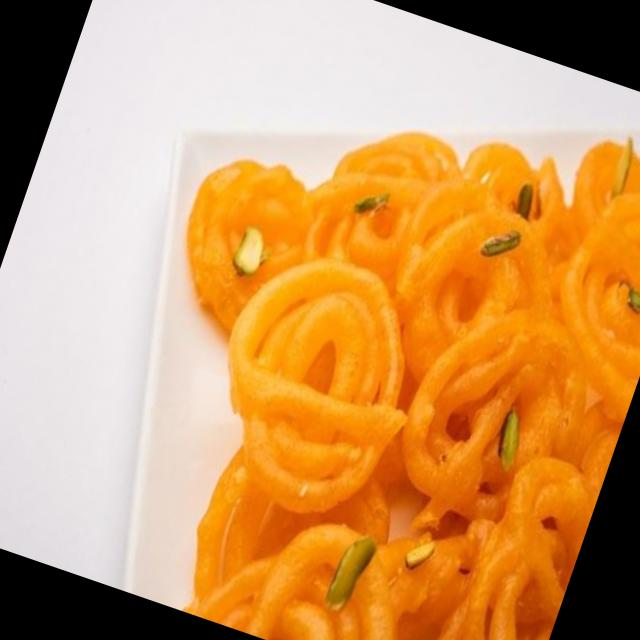jalebi: (65, 6, 640, 640)
